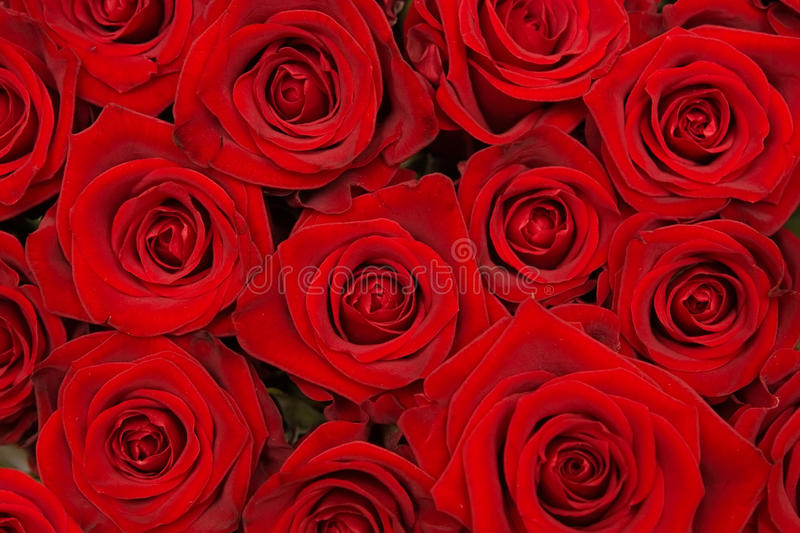RedRose: (400, 282, 778, 533), (244, 176, 517, 420), (24, 100, 291, 343), (162, 1, 444, 217), (7, 321, 277, 533), (580, 23, 800, 224), (596, 183, 800, 397), (444, 112, 621, 318)
